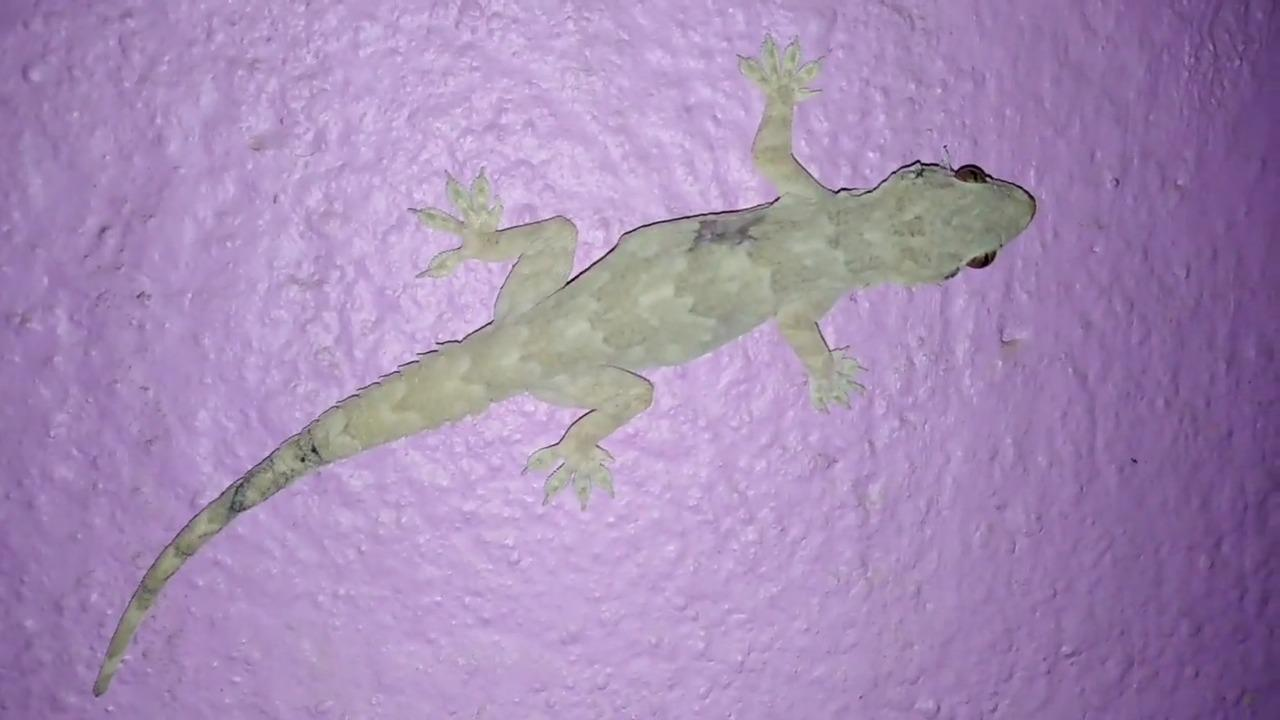lizard: (69, 32, 1049, 697)
